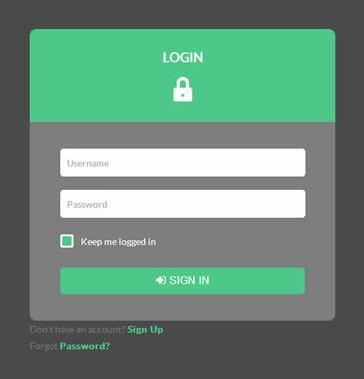button: (58, 266, 305, 296)
checkbox: (59, 233, 77, 249)
checkbox_with_label: (57, 231, 156, 251)
field: (58, 188, 307, 221), (58, 147, 307, 178)
